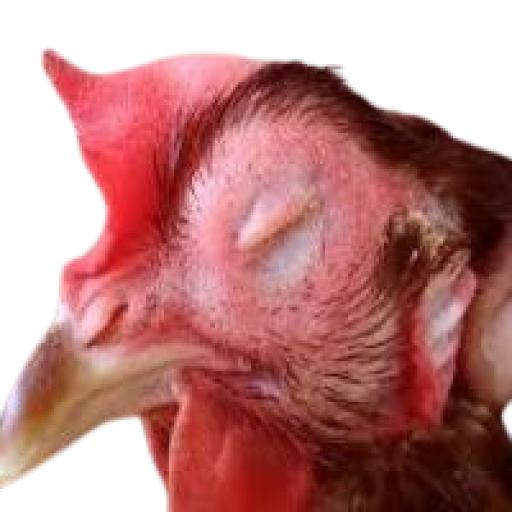disease: (160, 89, 424, 384)
